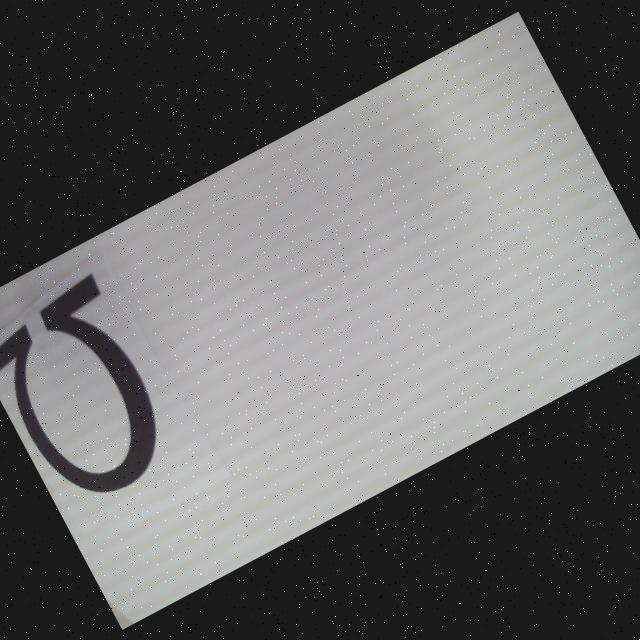OMEGA: (0, 272, 188, 513)
